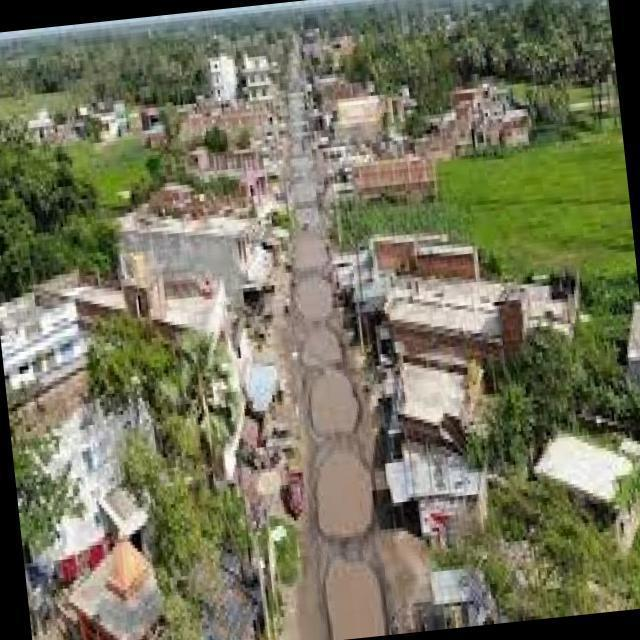pothole: (315, 452, 374, 539), (324, 559, 386, 640), (309, 373, 357, 437), (297, 276, 330, 318), (307, 330, 340, 363)
